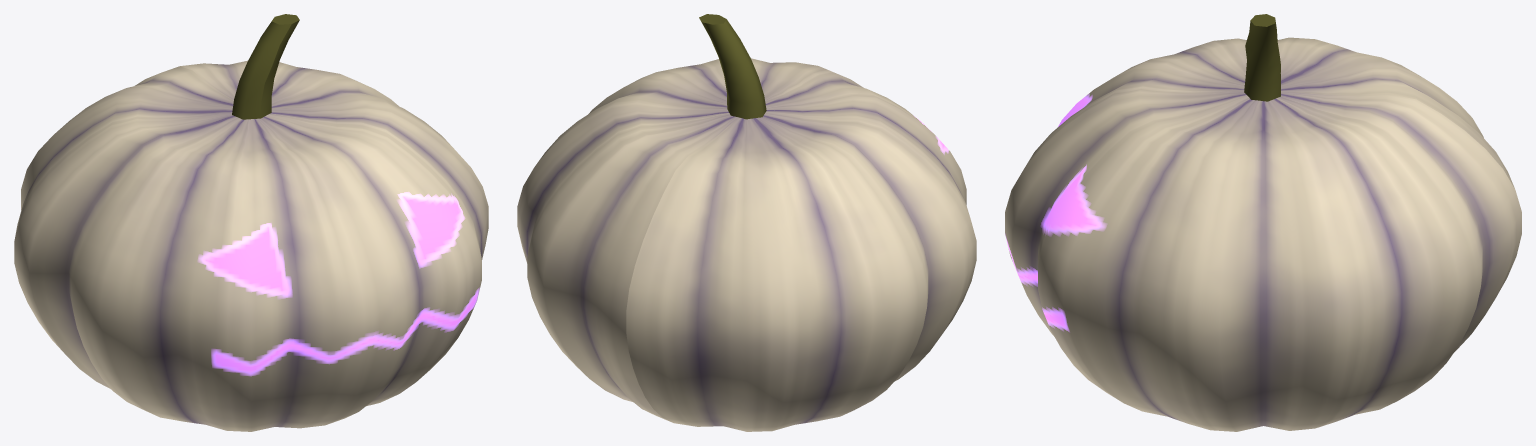
File: pale.glb
The picture shows the model from 3 angles, left to right: view 1: azimuth 30°, elevation 25°; view 2: azimuth 150°, elevation 25°; view 3: azimuth 270°, elevation 25°; orthographic projection. The views are drawn at different scales.
Visible parts, largest first — view 1: body, stem; view 2: body, stem; view 3: body, stem.
Part boxes in pixels (<box>): body: <box>14,60,488,431</box>; stem: <box>232,14,299,119</box>; body: <box>517,58,976,431</box>; stem: <box>699,14,766,119</box>; body: <box>1005,37,1521,431</box>; stem: <box>1244,14,1280,101</box>.
Bounding box in the file's own units: 1.76 × 1.47 × 1.84.
2 materials, 1 textured.
